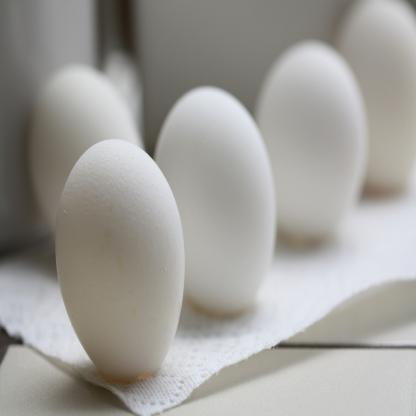Egg: (152, 0, 415, 318), (55, 141, 185, 381), (25, 62, 144, 233)
